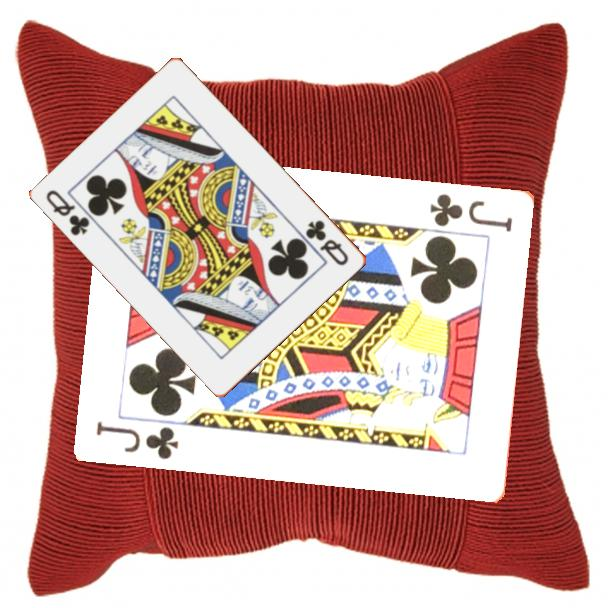c11: (427, 189, 516, 234), (93, 417, 182, 462)
c12: (302, 216, 352, 269), (43, 186, 93, 239)
